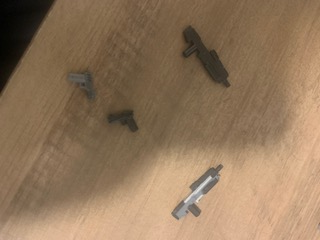pistol: (65, 69, 97, 105), (104, 105, 139, 135)
rifle: (179, 22, 231, 90), (169, 162, 225, 223)
